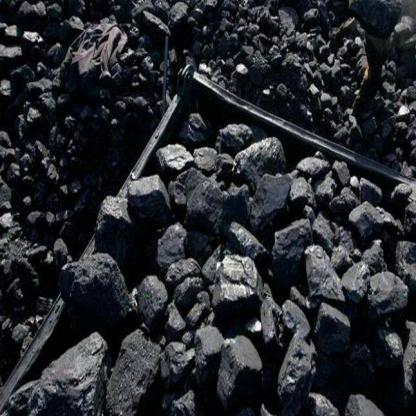Sedimentary_coal: (17, 328, 107, 414), (104, 321, 162, 412), (59, 252, 135, 319), (212, 252, 268, 334), (356, 263, 410, 346), (203, 336, 261, 406), (228, 132, 294, 184), (251, 166, 300, 228), (276, 330, 312, 414), (299, 245, 339, 314), (89, 190, 140, 244), (186, 168, 233, 224), (310, 298, 346, 360), (123, 172, 170, 213), (133, 271, 168, 321), (153, 222, 190, 263), (314, 165, 342, 216)
